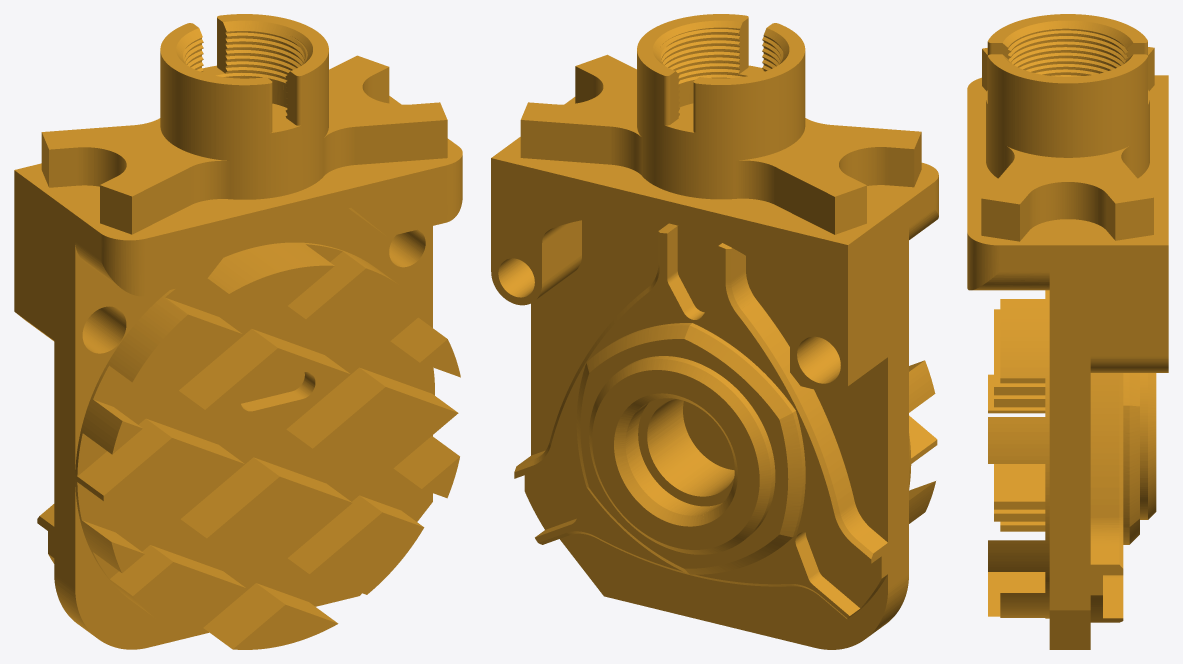
3 renders of one model, left to right at view 1: azimuth 30°, elevation 25°; view 2: azimuth 150°, elevation 25°; view 3: azimuth 270°, elevation 25°, orthographic. The views are drawn at different scales.
Size of the model in its own units: 98 by 148 by 49.
